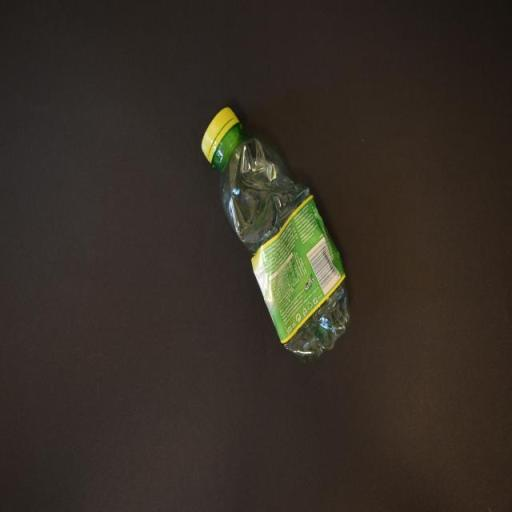plastic: (203, 106, 349, 358)
